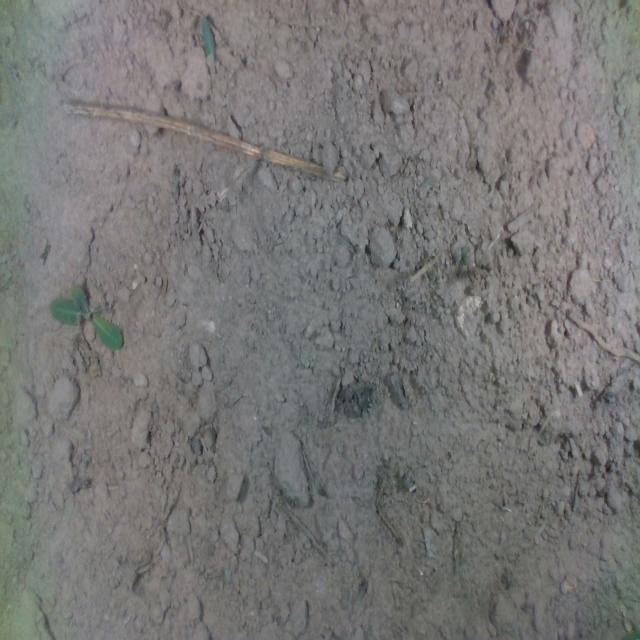weed: (47, 280, 123, 350)
